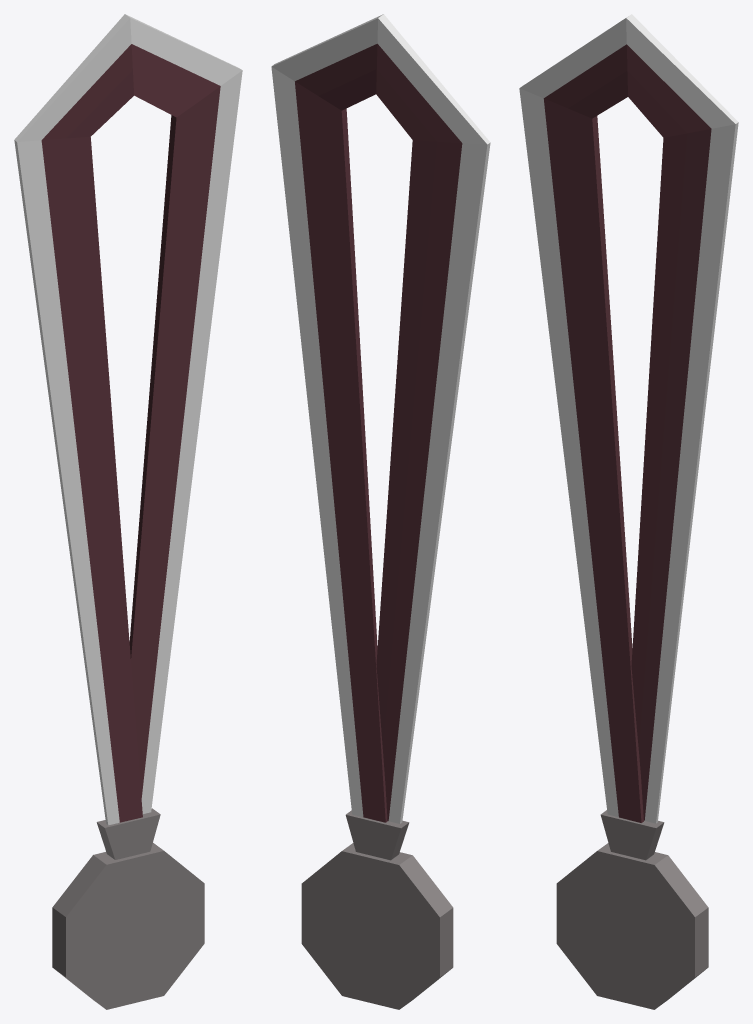
File: medal-tricolor-silver.fbx
The picture shows the model from 3 angles, left to right: view 1: azimuth 30°, elevation 25°; view 2: azimuth 150°, elevation 25°; view 3: azimuth 330°, elevation 25°; orthographic projection.
Parts seen in each view (by area): view 1: medal-tricolor-silver; view 2: medal-tricolor-silver; view 3: medal-tricolor-silver.
Boxes of the visible parts, box(x1,y1,x2,y2) form: medal-tricolor-silver: box(14, 14, 242, 1009); medal-tricolor-silver: box(271, 14, 490, 1009); medal-tricolor-silver: box(519, 14, 738, 1009).
Size of the model in its own units: 0.0736 by 0.3131 by 0.0088.
